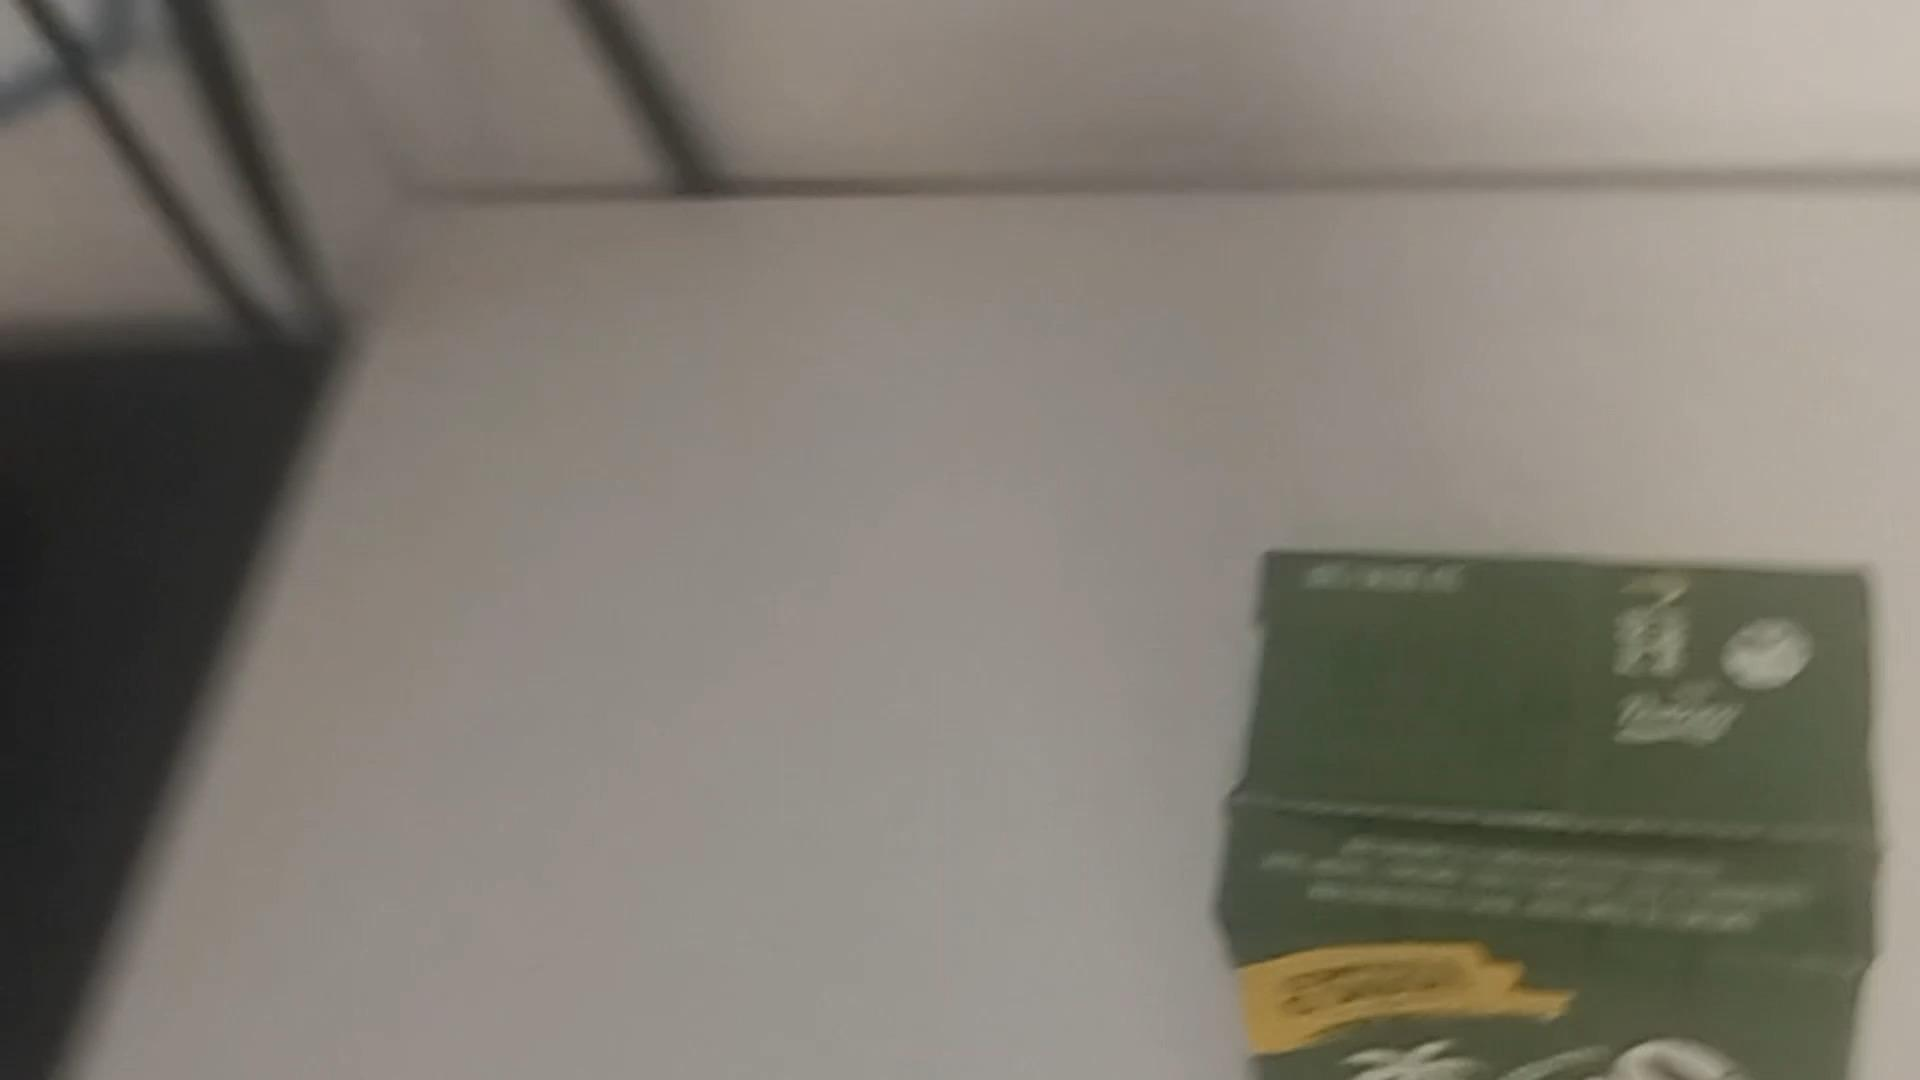coco: (1213, 549, 1891, 1080)
